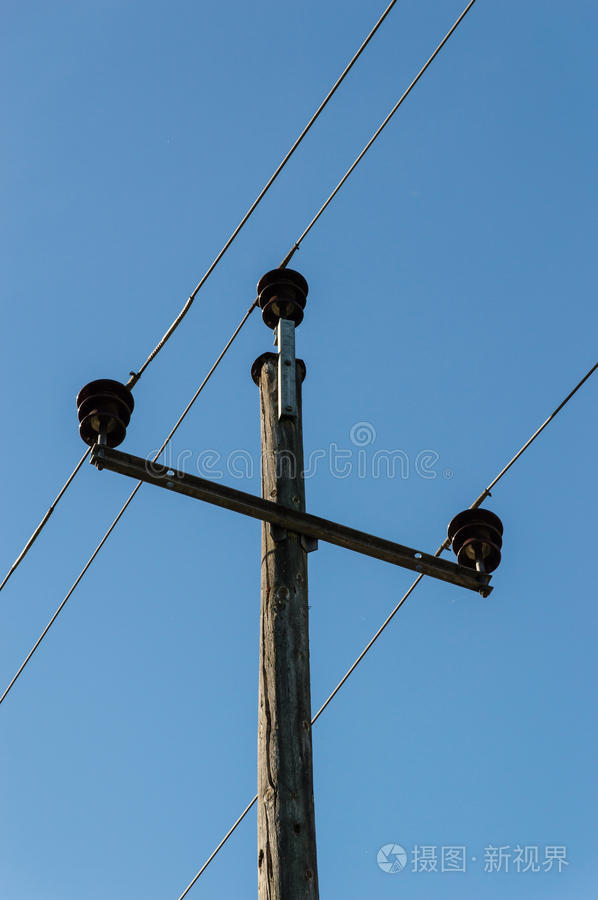insulator: (442, 503, 509, 574), (70, 380, 134, 450), (251, 269, 314, 328)
